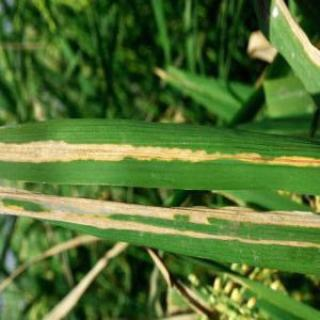Hawar-Daun: (1, 193, 319, 272), (0, 187, 319, 226), (0, 141, 319, 165)
